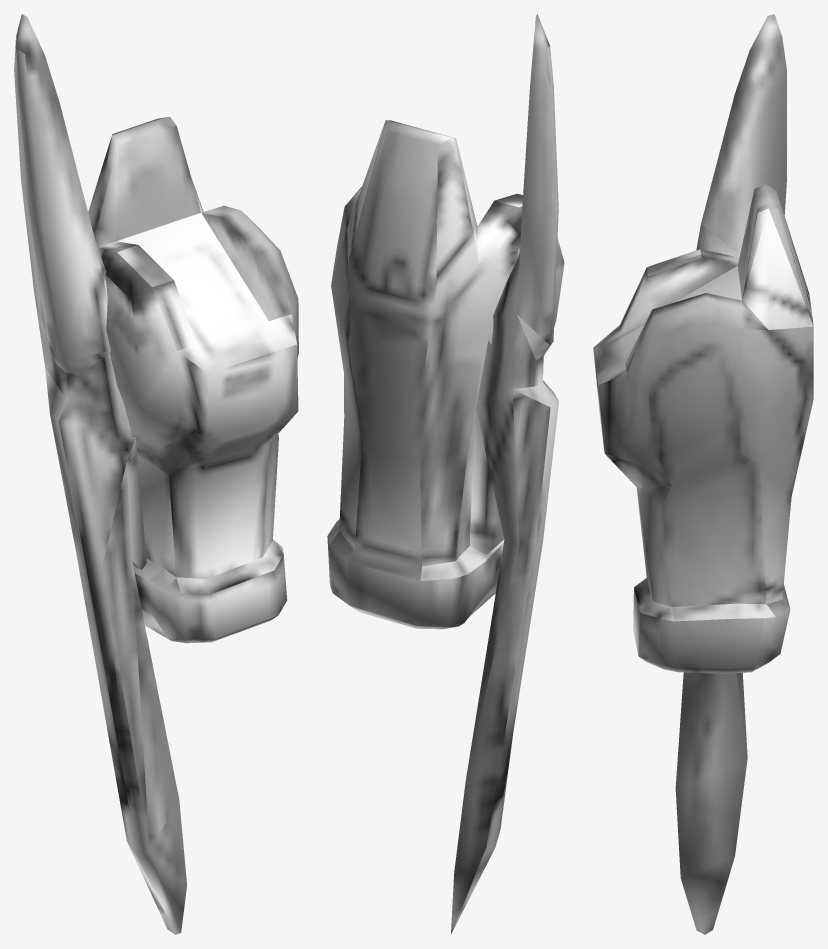
The model's file is r_fore.glb.
3 views of the same model, side by side, from view 1: azimuth 30°, elevation 25°; view 2: azimuth 150°, elevation 25°; view 3: azimuth 270°, elevation 25° (orthographic). The views are drawn at different scales.
Parts seen in each view (by area): view 1: r_fore; view 2: r_fore; view 3: r_fore.
Boxes of the visible parts, x1,y1,x2,y2 form: r_fore: [14, 14, 298, 934]; r_fore: [327, 14, 564, 934]; r_fore: [593, 14, 813, 934].
Size of the model in its own units: 0.3599 by 1.44 by 0.3324.
3 materials, 3 textured.
